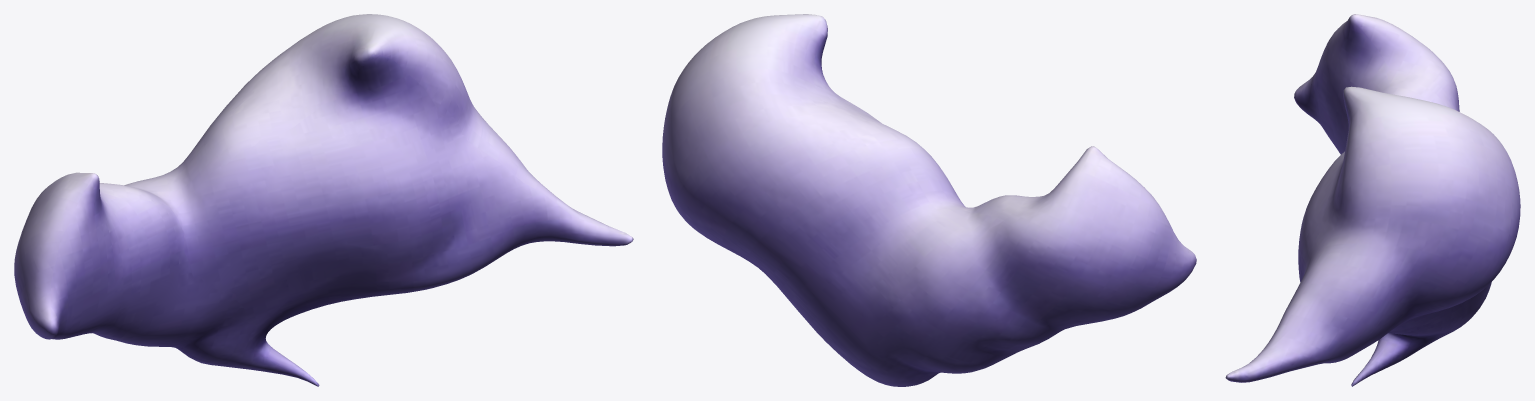
Rendered from sky_cloud_01d_nexus.glb.
The picture shows the model from 3 angles, left to right: view 1: azimuth 30°, elevation 25°; view 2: azimuth 150°, elevation 25°; view 3: azimuth 270°, elevation 25°; orthographic projection.
Visible parts, largest first — view 1: cloud_01d; view 2: cloud_01d; view 3: cloud_01d.
Boxes of the visible parts, bbox=[...] form: cloud_01d: bbox=[14, 14, 633, 386]; cloud_01d: bbox=[662, 14, 1196, 386]; cloud_01d: bbox=[1225, 14, 1520, 386].
Size of the model in its own units: 191 by 109 by 88.79.
1 material, 1 textured.
